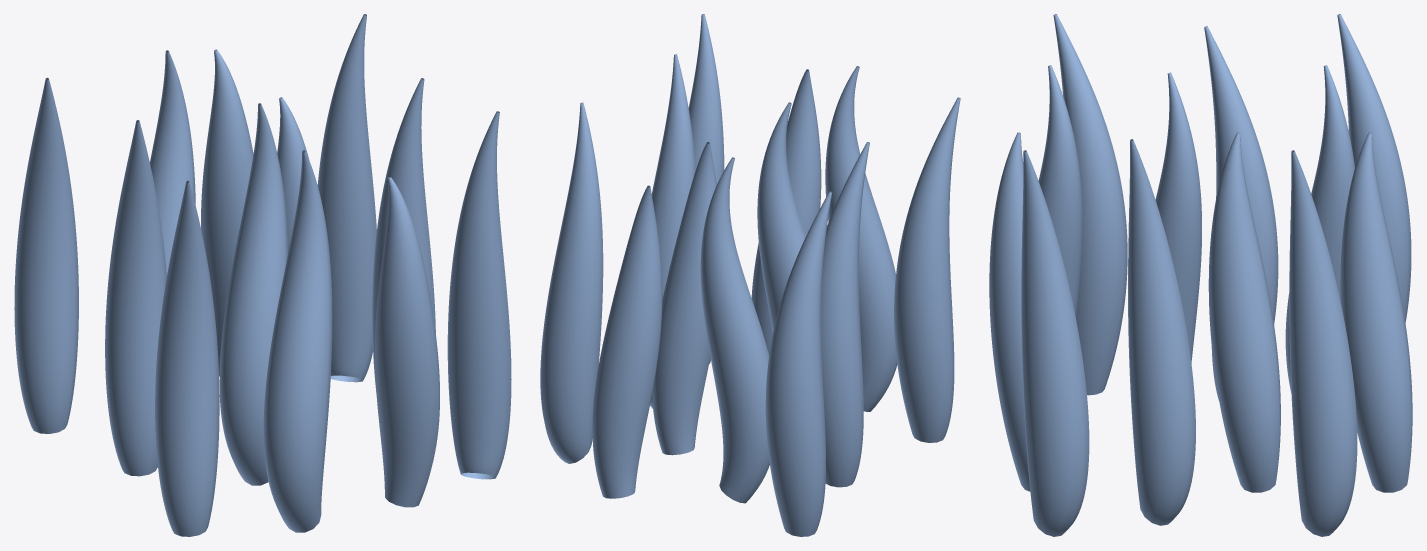
The model's file is Gras-Blau.fbx.
3 views of the same model, side by side, from view 1: azimuth 30°, elevation 25°; view 2: azimuth 150°, elevation 25°; view 3: azimuth 270°, elevation 25° (orthographic). The views are drawn at different scales.
Parts seen in each view (by area): view 1: Gras; view 2: Gras; view 3: Gras.
Boxes of the visible parts, x1,y1,x2,y2 form: Gras: [14, 14, 511, 536]; Gras: [540, 14, 960, 536]; Gras: [989, 14, 1412, 536].
Size of the model in its own units: 54.55 by 60.22 by 60.07.
